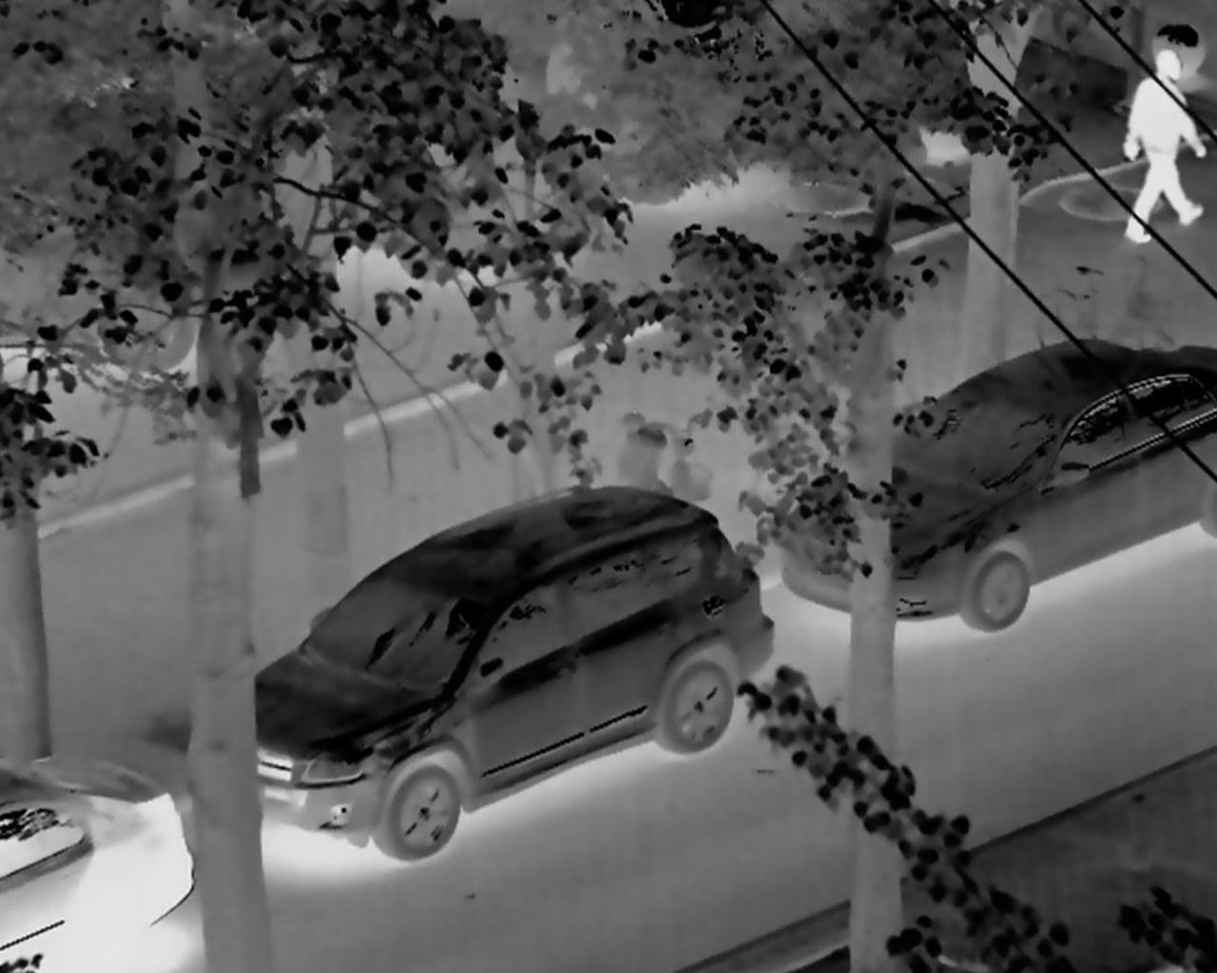person: (1116, 48, 1213, 252)
